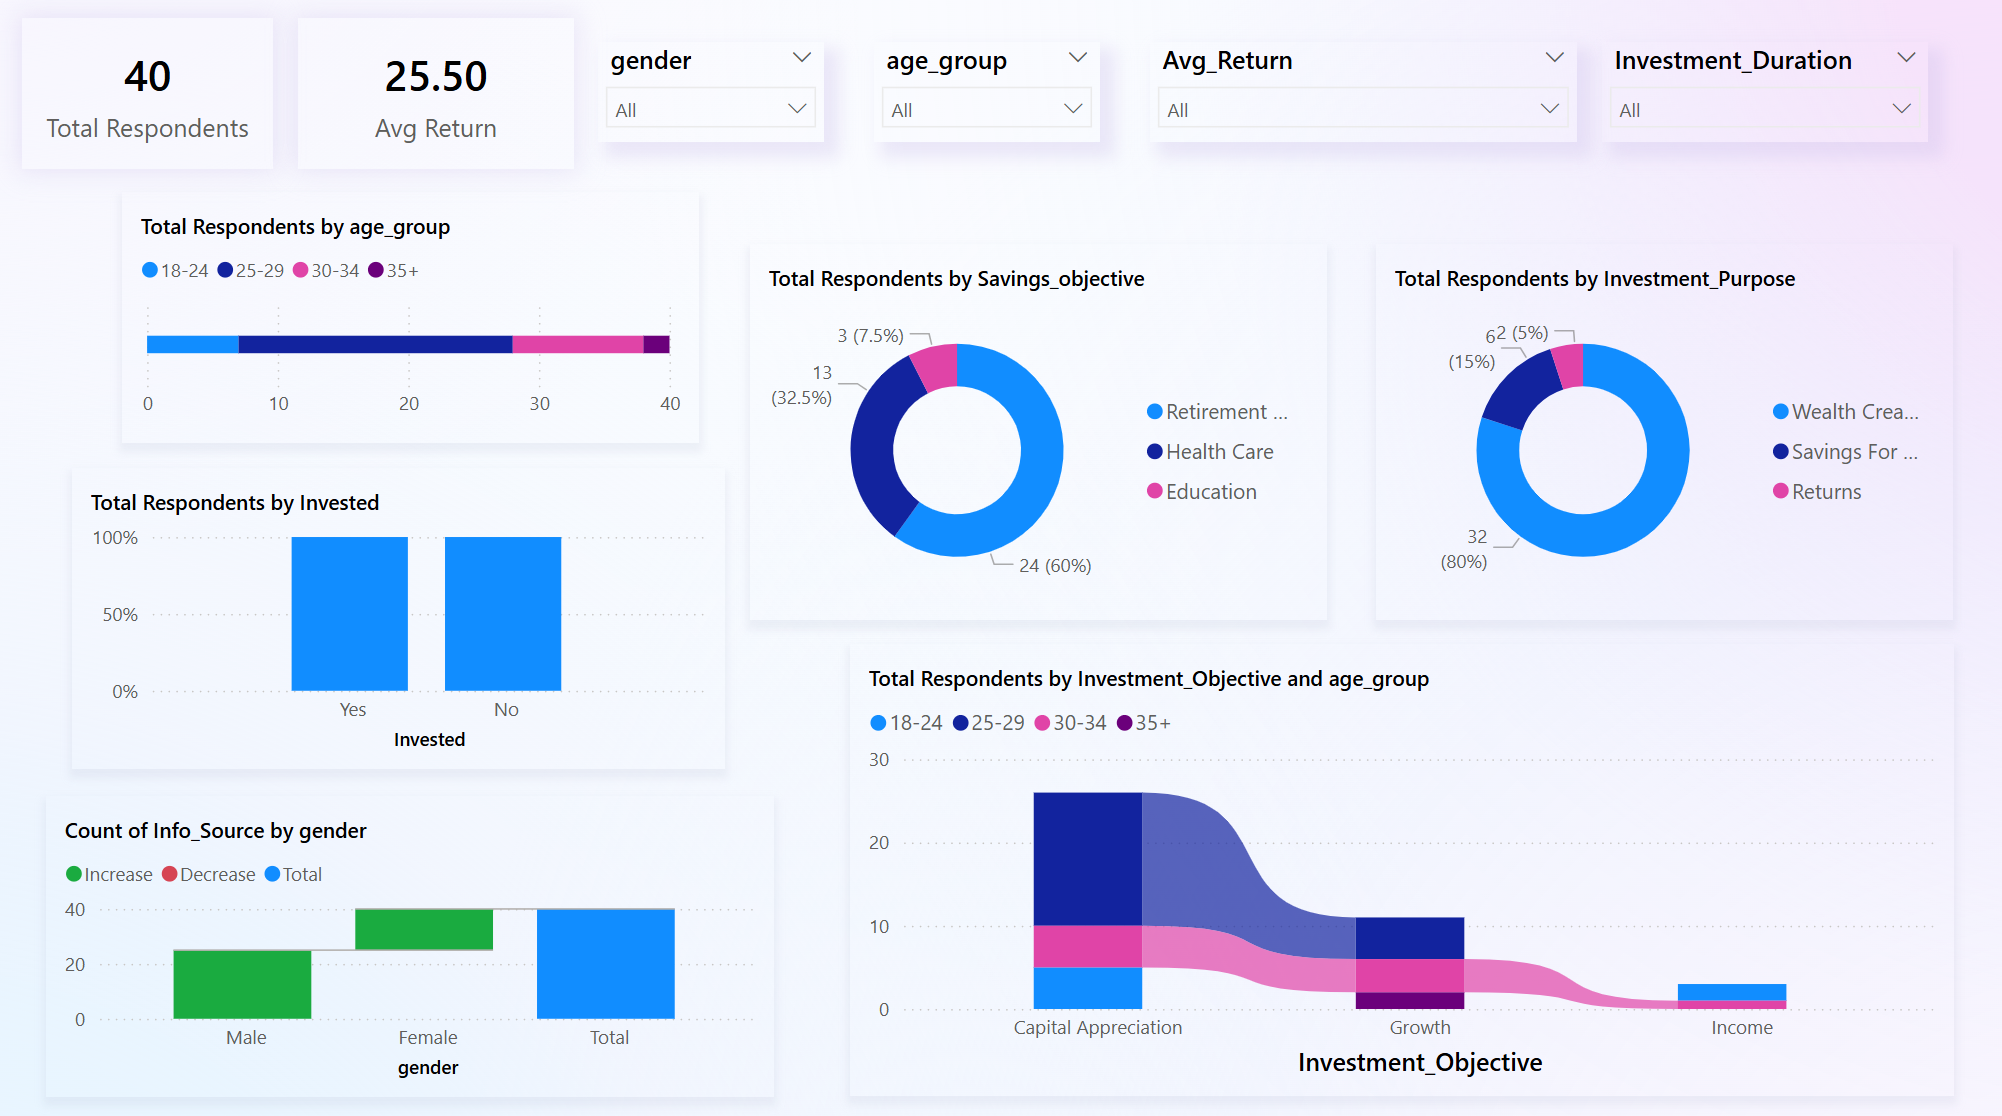

What the dashboard file says about the page in this screenshot:
{"tool":"powerbi","page":{"name":"Summary","canvas":[1280,720],"ordinal":0},"visuals":[{"type":"card","fields":{"Values":["Finance_data xl.Total Respondents"]},"box":[16,16,160,96],"z":0},{"type":"card","fields":{"Values":["Finance_data xl.Avg Return"]},"box":[192,16,176,96],"z":1000},{"type":"barChart","fields":{"Series":["Finance_data xl.age_group"],"Y":["Finance_data xl.Total Respondents"]},"box":[80,128,368,160],"z":2000},{"type":"donutChart","fields":{"Category":["Finance_data xl.Investment_Purpose"],"Y":["Finance_data xl.Total Respondents"]},"box":[880,160,368,240],"z":3000},{"type":"hundredPercentStackedColumnChart","fields":{"Y":["Finance_data xl.Total Respondents"],"Category":["Finance_data xl.Invested"]},"box":[48,304,416,192],"z":4000},{"type":"ribbonChart","fields":{"Category":["Finance_data xl.Investment_Objective"],"Series":["Finance_data xl.age_group"],"Y":["Finance_data xl.Total Respondents"]},"box":[544,416,704,288],"z":5000},{"type":"donutChart","fields":{"Category":["Finance_data xl.Savings_objective"],"Y":["Finance_data xl.Total Respondents"]},"box":[480,160,368,240],"z":6000},{"type":"waterfallChart","fields":{"Category":["Finance_data xl.gender"],"Y":["CountNonNull(Finance_data xl.Info_Source)"]},"box":[32,512,464,192],"z":7000},{"type":"slicer","fields":{"Values":["Finance_data xl.gender"]},"box":[384,32,144,64],"z":8000},{"type":"slicer","fields":{"Values":["Finance_data xl.age_group"]},"box":[560,32,144,64],"z":9000},{"type":"slicer","fields":{"Values":["Finance_data xl.Investment_Duration"]},"box":[1024,32,208,64],"z":10000},{"type":"slicer","fields":{"Values":["Finance_data xl.Avg_Return"]},"box":[736,32,272,64],"z":11000}]}

Visuals, with their boxes in screenshot pixels (x1, y1, x2, y2), scaled from the page's 1280x720 canvas onto the 2002x1116 screenshot:
card - Finance_data xl.Total Respondents: locate(25, 25, 275, 174)
card - Finance_data xl.Avg Return: locate(300, 25, 576, 174)
barChart - Finance_data xl.age_group x Finance_data xl.Total Respondents: locate(125, 198, 701, 446)
donutChart - Finance_data xl.Investment_Purpose x Finance_data xl.Total Respondents: locate(1376, 248, 1952, 620)
hundredPercentStackedColumnChart - Finance_data xl.Total Respondents x Finance_data xl.Invested: locate(75, 471, 726, 769)
ribbonChart - Finance_data xl.Investment_Objective x Finance_data xl.age_group: locate(851, 645, 1952, 1091)
donutChart - Finance_data xl.Savings_objective x Finance_data xl.Total Respondents: locate(751, 248, 1326, 620)
waterfallChart - Finance_data xl.gender x CountNonNull(Finance_data xl.Info_Source): locate(50, 794, 776, 1091)
slicer - Finance_data xl.gender: locate(601, 50, 826, 149)
slicer - Finance_data xl.age_group: locate(876, 50, 1101, 149)
slicer - Finance_data xl.Investment_Duration: locate(1602, 50, 1927, 149)
slicer - Finance_data xl.Avg_Return: locate(1151, 50, 1577, 149)
